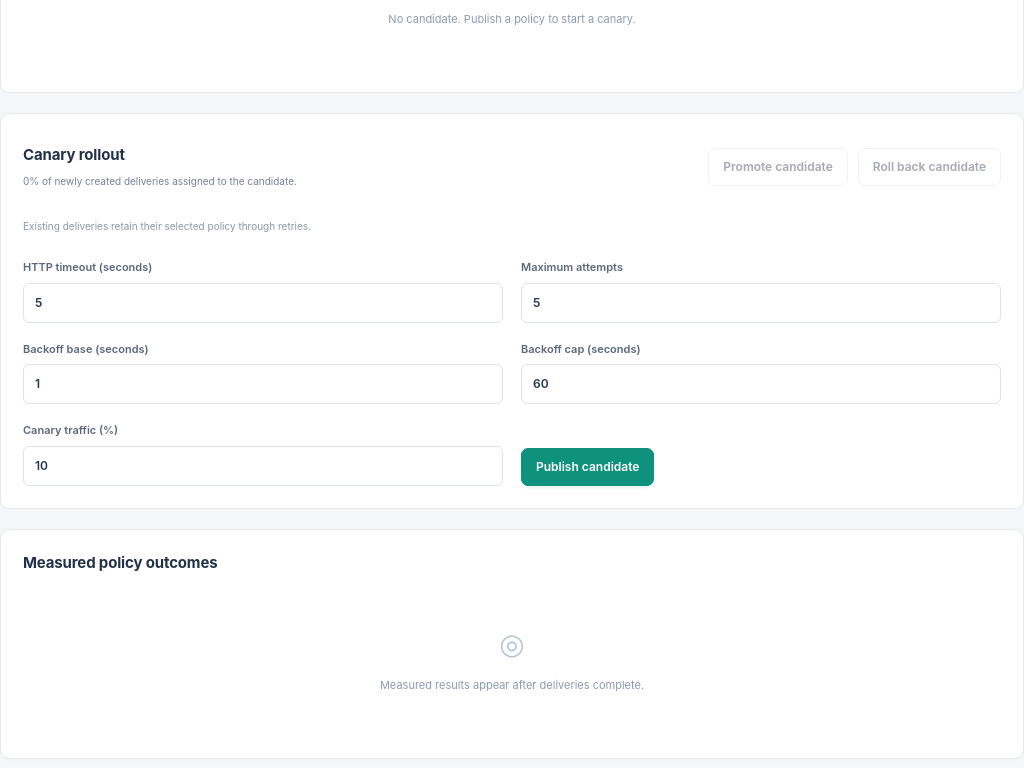
Scenario: operational controls › rejects an inverted retry backoff range
(page scrolled)
Replace the text in the number field labelled "Backoff base (seconds)" with "100" at (263, 384), box [23, 364, 503, 404]
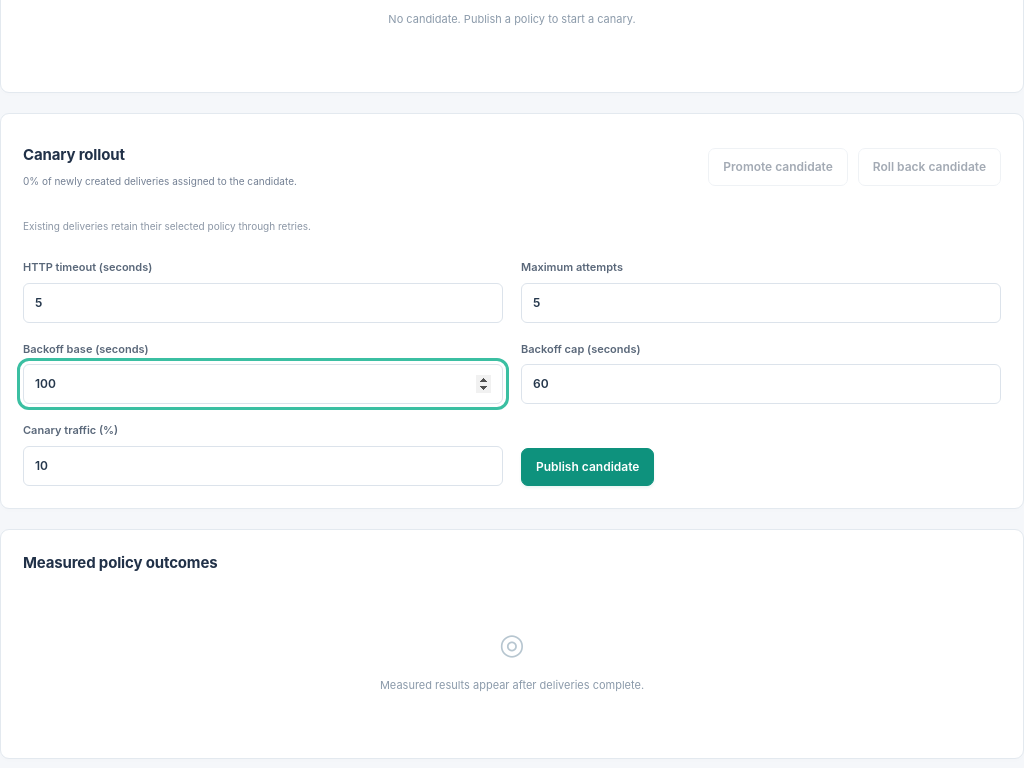
Click the button "Publish candidate" at (588, 467), box [521, 448, 654, 486]
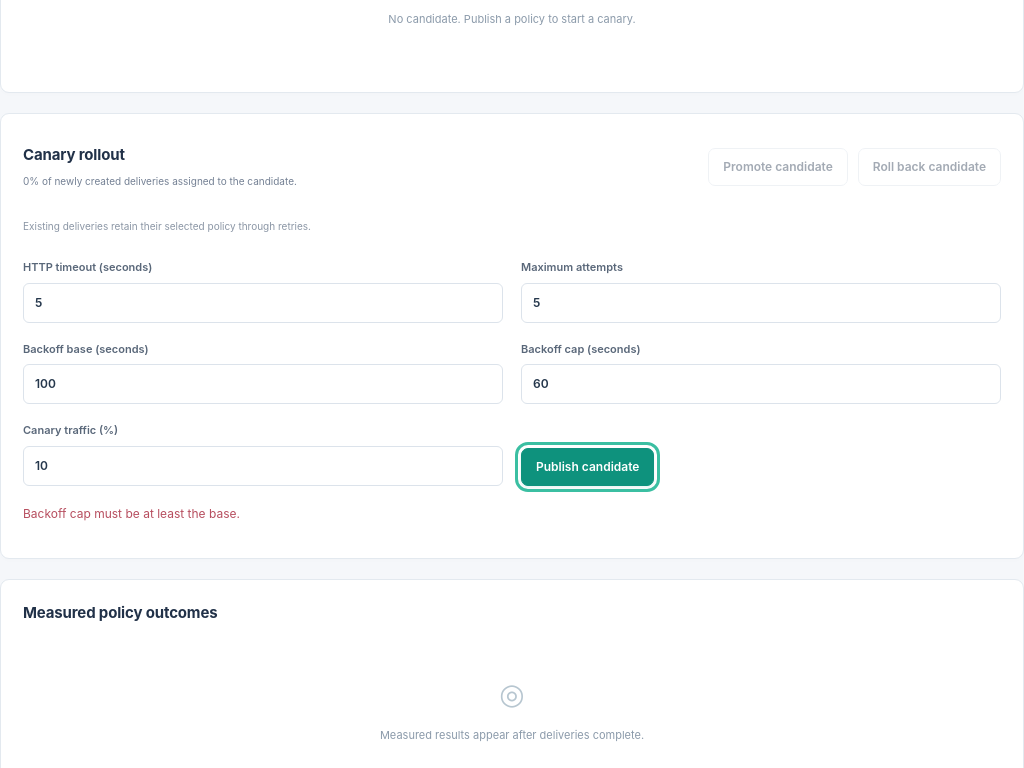
Expected: the message shows "Backoff cap must be at least the base", [23, 506, 240, 521]
